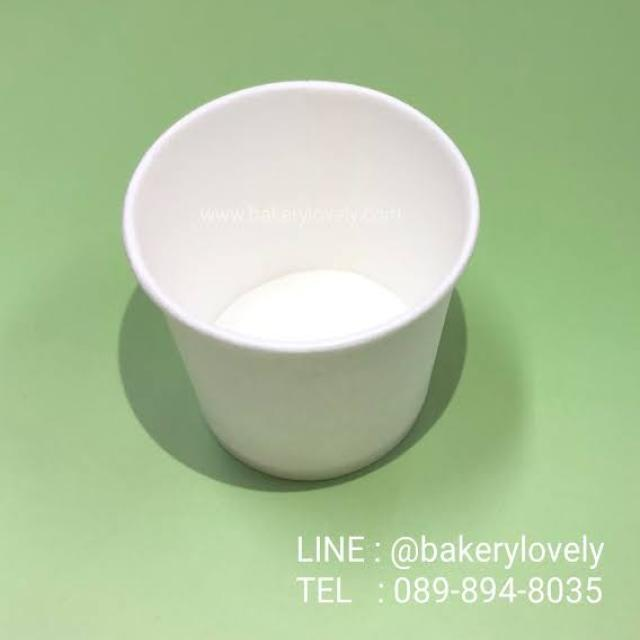plastic cup: (107, 71, 492, 489)
